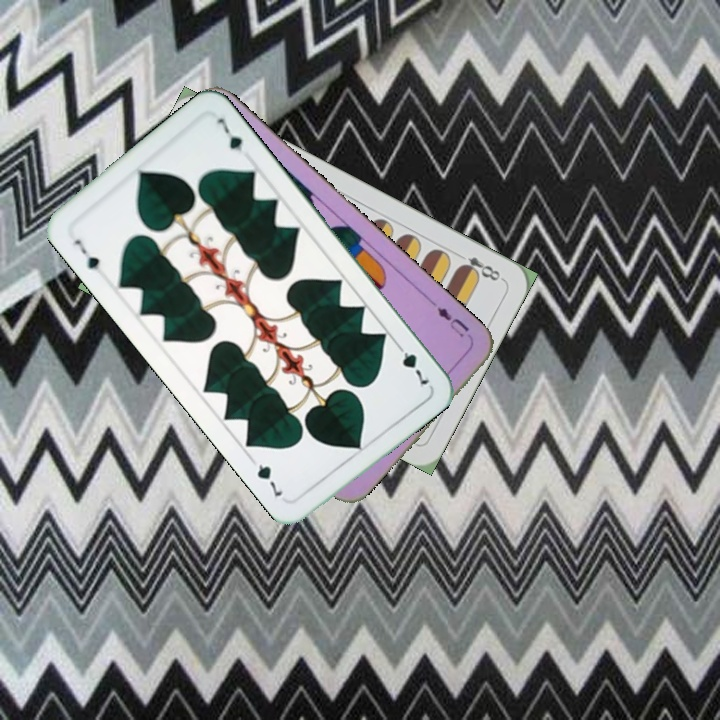E8: (452, 248, 506, 284)
EU: (428, 298, 472, 340)
G7: (391, 338, 433, 391), (70, 235, 108, 279)
